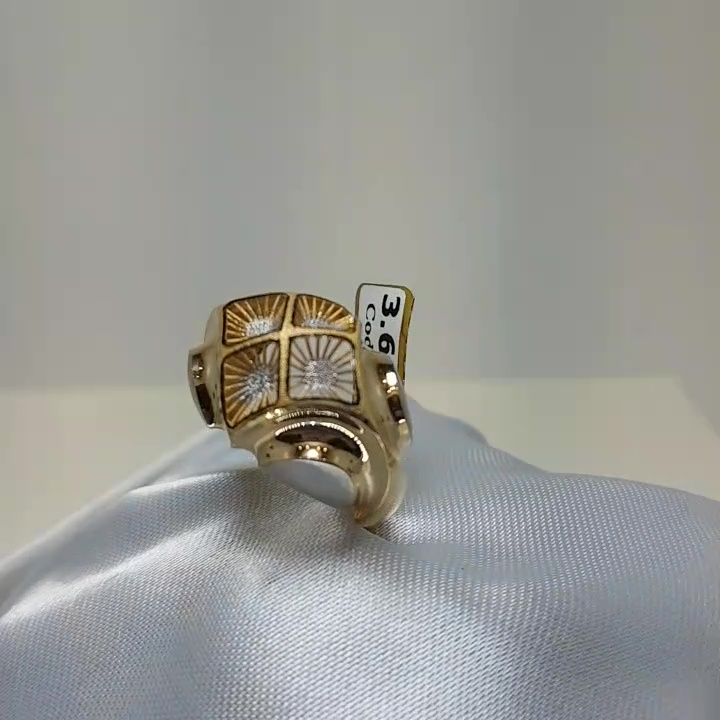Ring 2: (165, 264, 418, 545)
